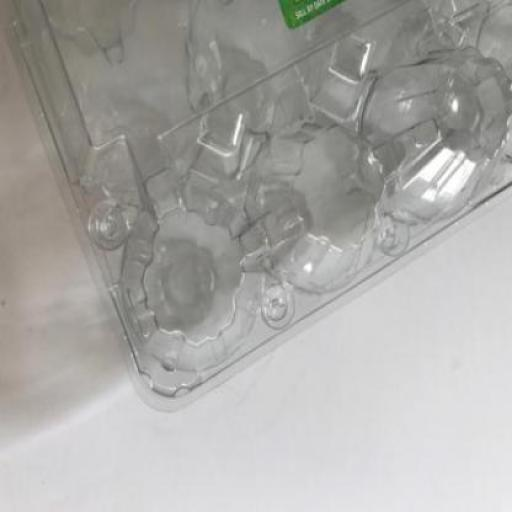plastic: (1, 1, 511, 416)
